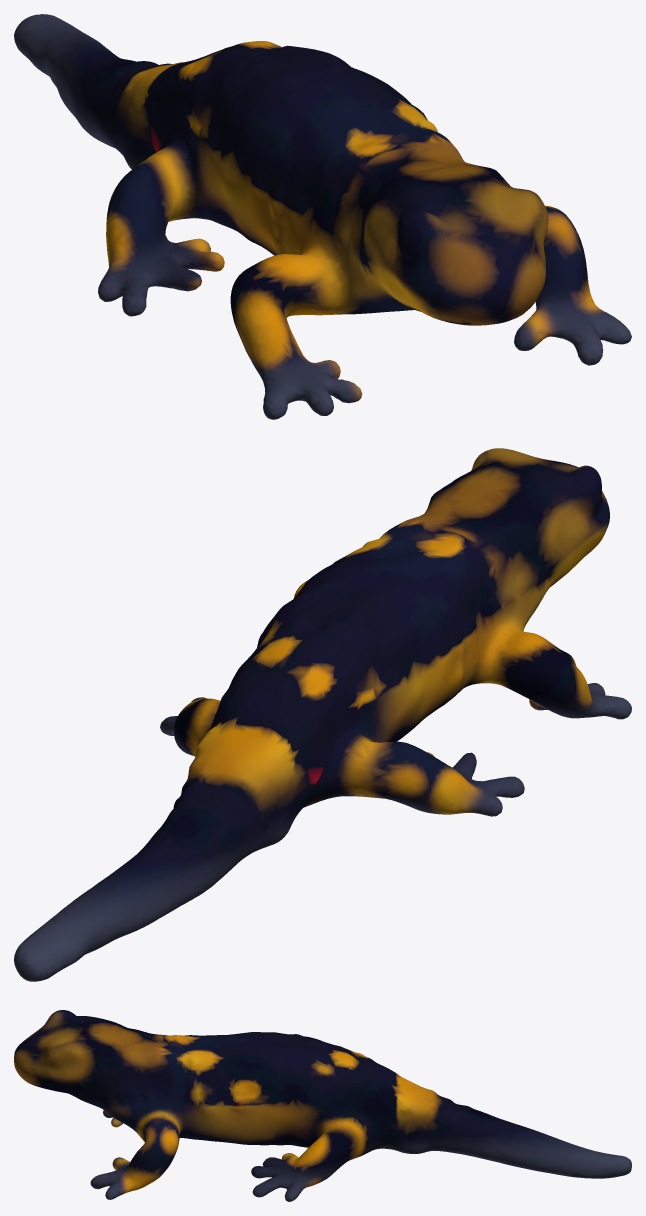
File: firesal.glb
The picture shows the model from 3 angles, top to bottom: view 1: azimuth 30°, elevation 25°; view 2: azimuth 150°, elevation 25°; view 3: azimuth 270°, elevation 25°; orthographic projection. The views are drawn at different scales.
Visible parts, largest first — view 1: firesal; view 2: firesal; view 3: firesal.
Part boxes in pixels (x1,y1,x2,y2): firesal: [14, 14, 631, 419]; firesal: [14, 448, 631, 981]; firesal: [14, 1010, 631, 1201].
Bounding box in the file's own units: 0.0721 × 0.0427 × 0.18.
